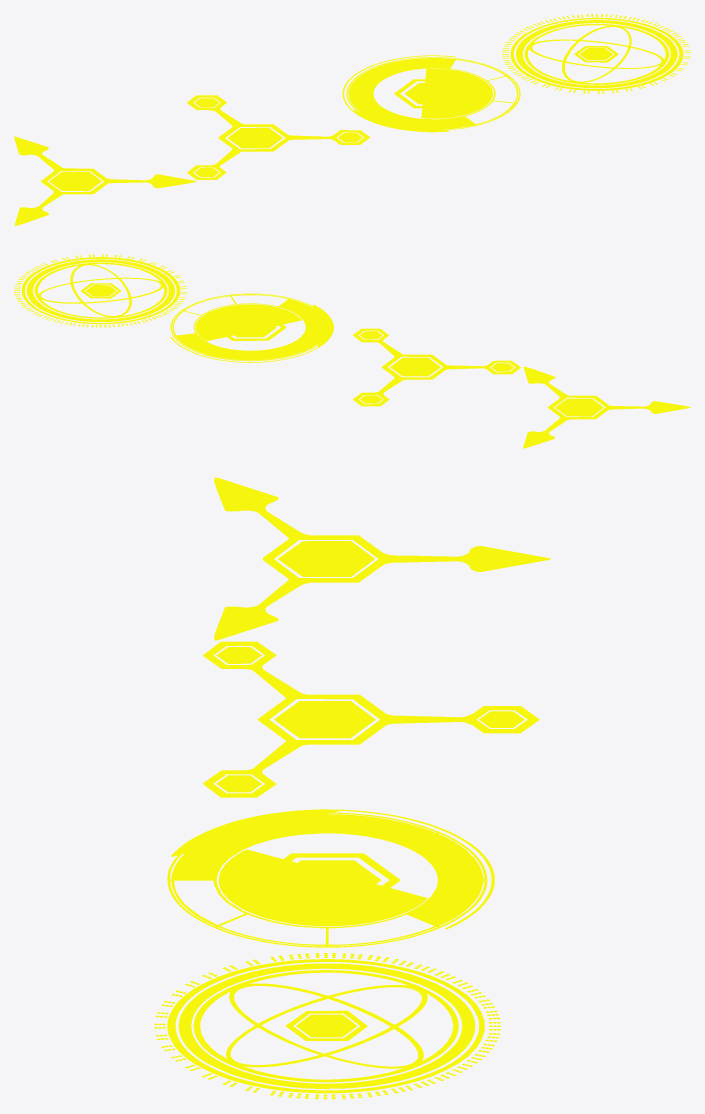
Rendered from Absolute Solver Models.fbx.
3 views of the same model, one above another, from view 1: azimuth 30°, elevation 25°; view 2: azimuth 150°, elevation 25°; view 3: azimuth 270°, elevation 25° (orthographic). The views are drawn at different scales.
Parts seen in each view (by area): view 1: Solver Edit, Solver Rotate, Solver Scale, Solver Transform; view 2: Solver Edit, Solver Rotate, Solver Scale, Solver Transform; view 3: Solver Edit, Solver Rotate, Solver Scale, Solver Transform.
Boxes of the visible parts, x1,y1,x2,y2 form: Solver Edit: (342, 55, 520, 132); Solver Rotate: (502, 14, 690, 93); Solver Scale: (187, 95, 370, 179); Solver Transform: (14, 136, 196, 225); Solver Edit: (170, 293, 333, 362); Solver Rotate: (14, 254, 187, 327); Solver Scale: (353, 328, 520, 406); Solver Transform: (523, 366, 690, 448); Solver Edit: (167, 809, 494, 947); Solver Rotate: (154, 953, 500, 1099); Solver Scale: (202, 641, 539, 797); Solver Transform: (214, 477, 550, 640).
Bounding box in the file's own units: 426 × 0.015 × 115.
